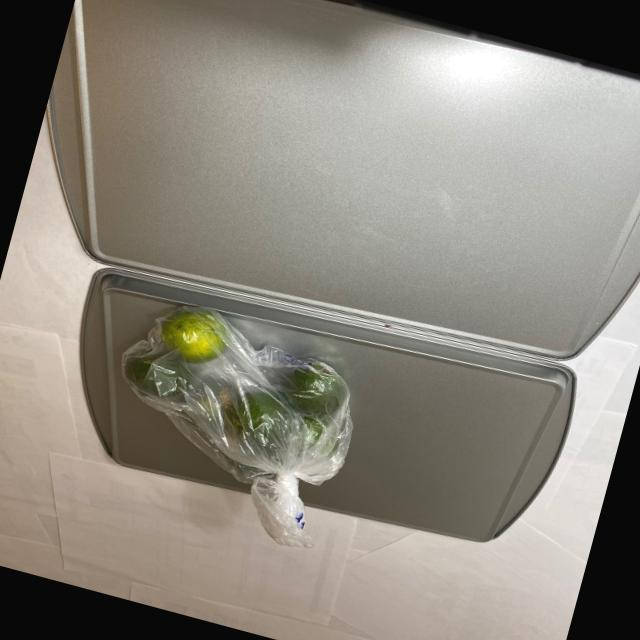lemon: (101, 296, 376, 501)
